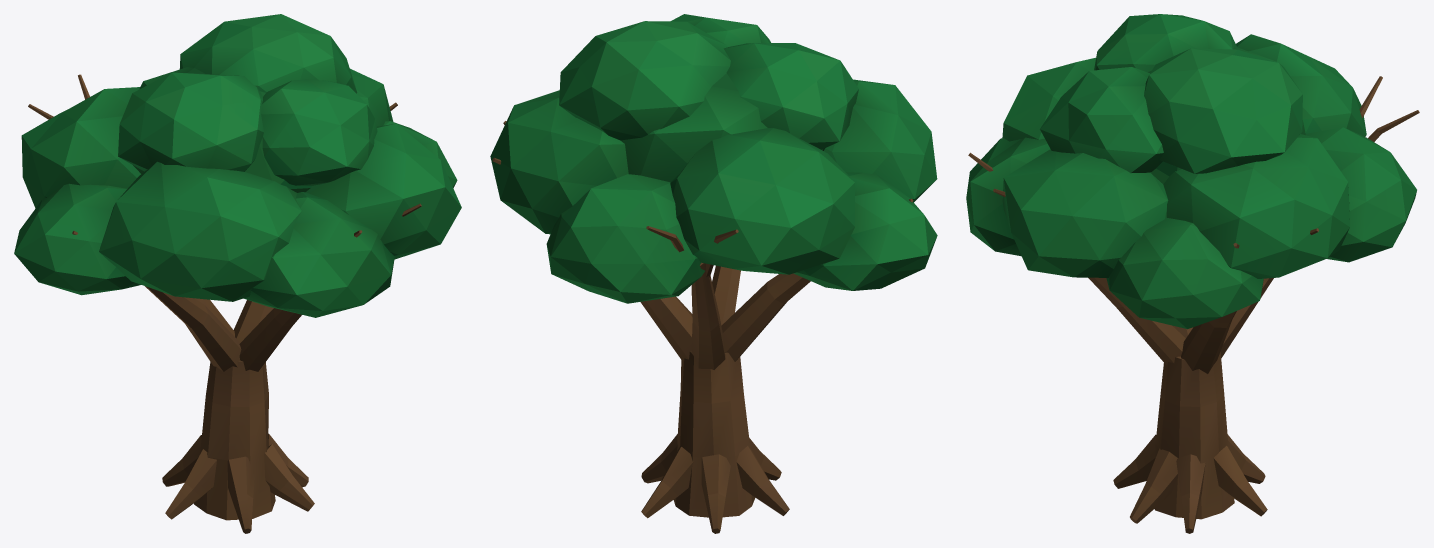
File: tree_big_oak.glb
The picture shows the model from 3 angles, left to right: view 1: azimuth 30°, elevation 25°; view 2: azimuth 150°, elevation 25°; view 3: azimuth 270°, elevation 25°; orthographic projection. The views are drawn at different scales.
Size of the model in its own units: 11.77 by 12.28 by 10.87.
